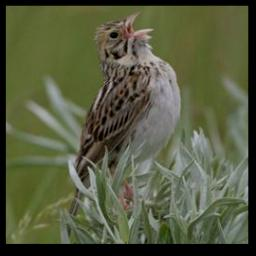Sparrow: (65, 11, 182, 236)
